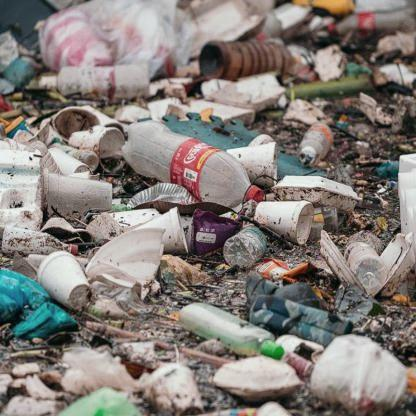Plastic: (105, 128, 263, 204), (159, 308, 296, 358), (199, 40, 296, 86), (35, 165, 115, 220), (37, 239, 88, 314), (340, 228, 391, 300), (250, 199, 315, 247), (322, 8, 408, 38), (130, 211, 179, 255), (184, 210, 237, 246), (296, 118, 335, 163), (228, 228, 268, 271)
Trash: (114, 206, 156, 228)
